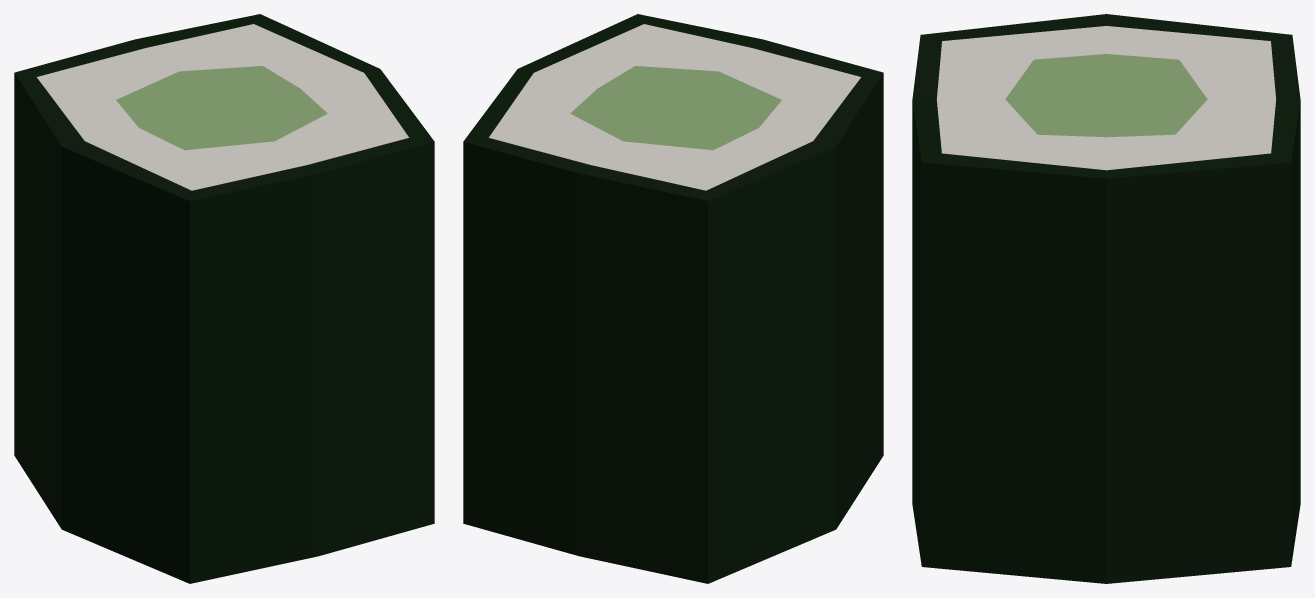
File: hossomakiCocumber.fbx
3 renders of one model, left to right at view 1: azimuth 30°, elevation 25°; view 2: azimuth 150°, elevation 25°; view 3: azimuth 270°, elevation 25°, orthographic. The views are drawn at different scales.
Visible parts, largest first — view 1: hossomakiCocumber; view 2: hossomakiCocumber; view 3: hossomakiCocumber.
Boxes of the visible parts, left/top/right/bottom form: hossomakiCocumber: left=14, top=14, right=434, bottom=583; hossomakiCocumber: left=463, top=14, right=883, bottom=583; hossomakiCocumber: left=912, top=14, right=1300, bottom=583.
Bounding box in the file's own units: 3.74 × 4.29 × 3.72.
Materials: 1 (1 with a texture image).
